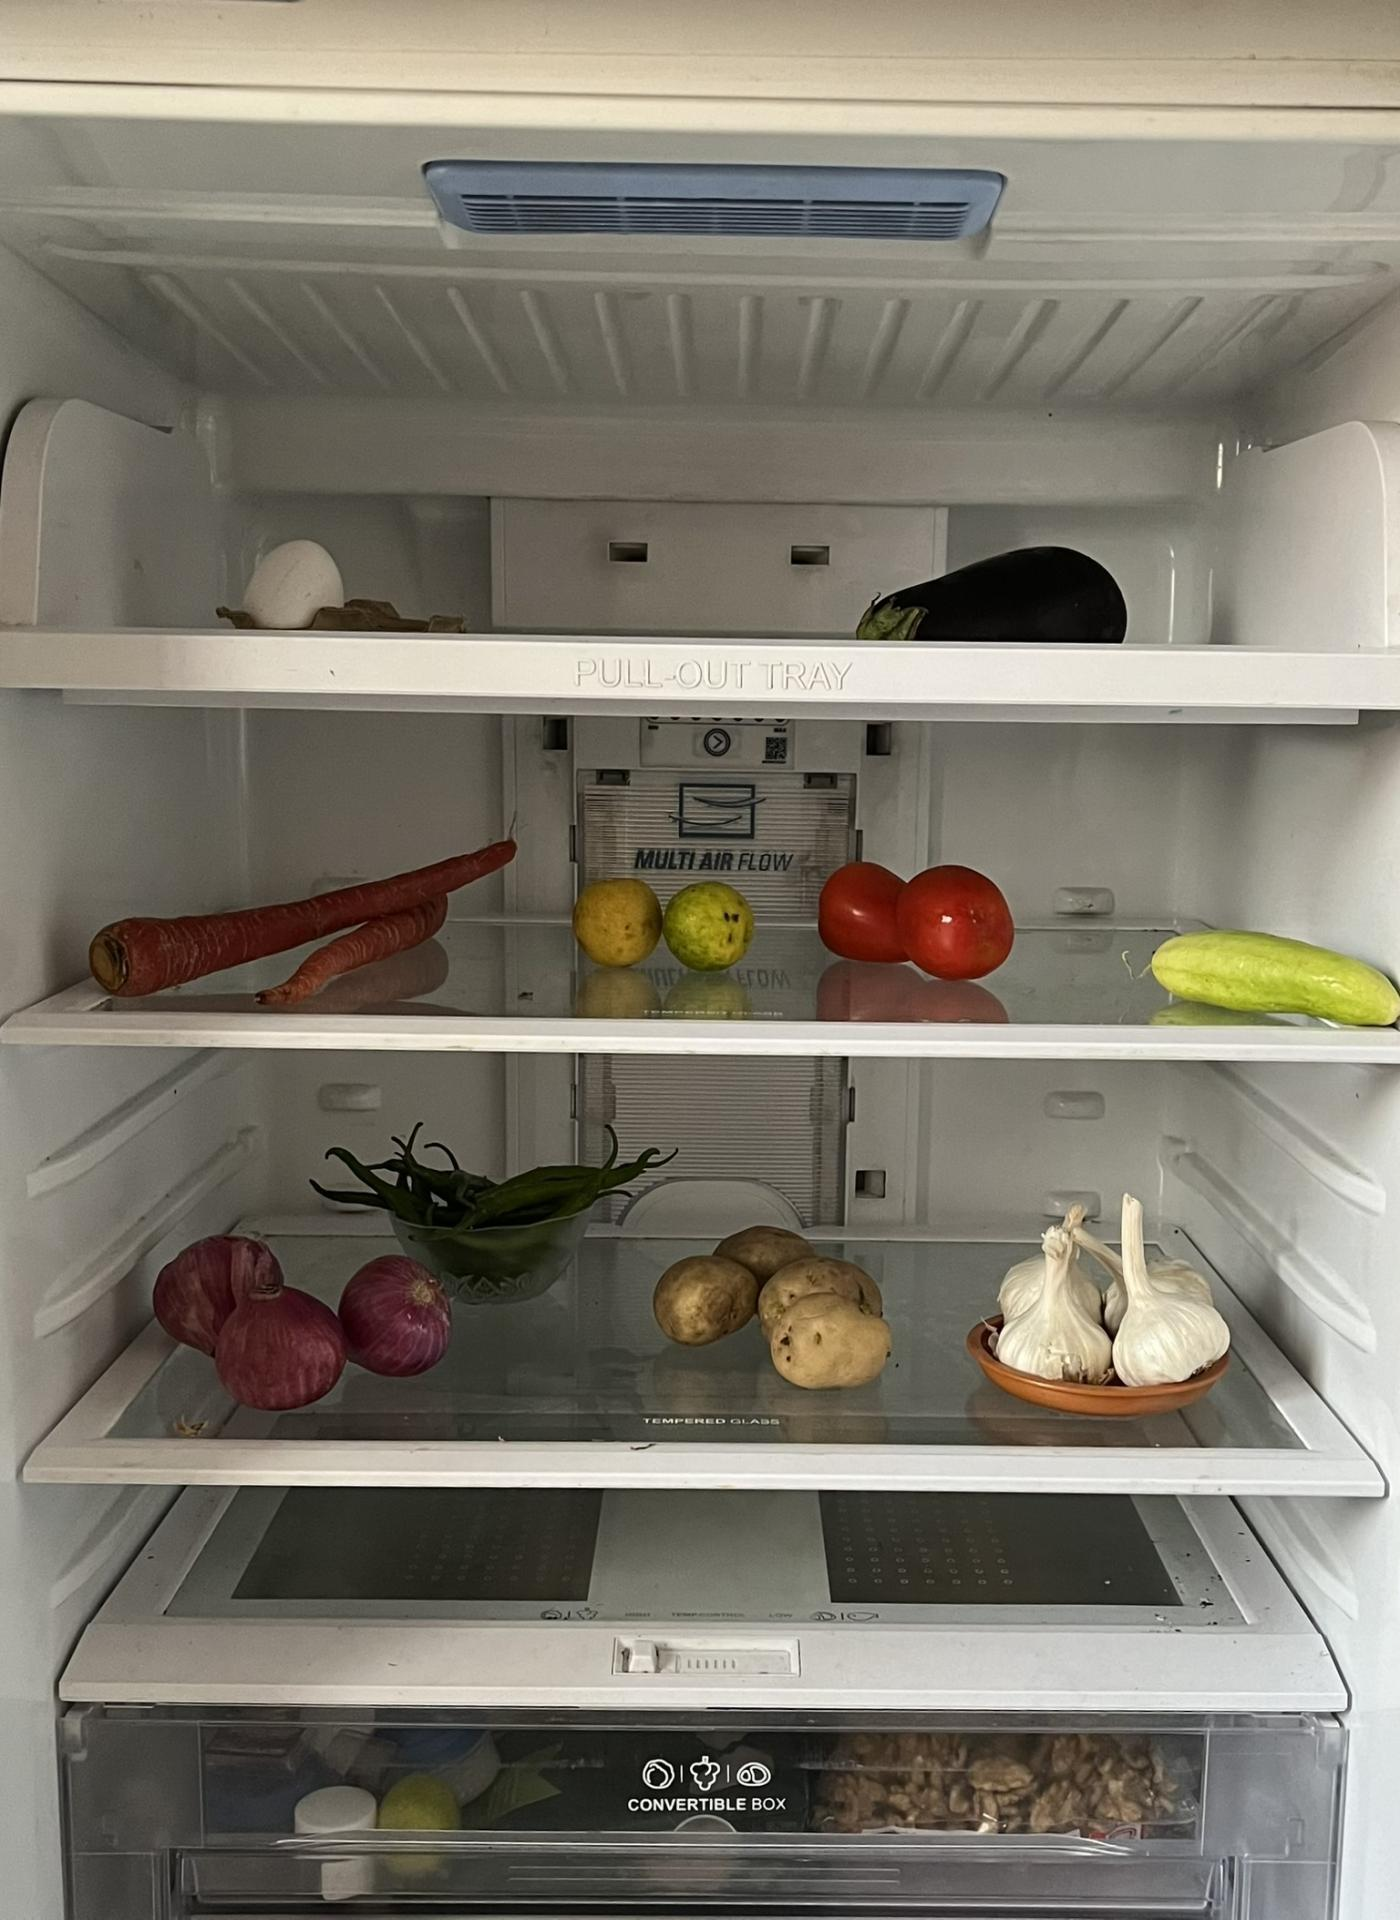brinjal: (850, 547, 1132, 651)
carrots: (78, 844, 514, 997)
chillies: (329, 1140, 637, 1286)
cucumber: (1147, 941, 1394, 1035)
egg: (239, 532, 350, 634)
garlic: (981, 1188, 1229, 1388)
lemon: (571, 875, 753, 972)
onion: (158, 1222, 455, 1415)
potato: (652, 1221, 895, 1388)
tomato: (822, 854, 1011, 973)
